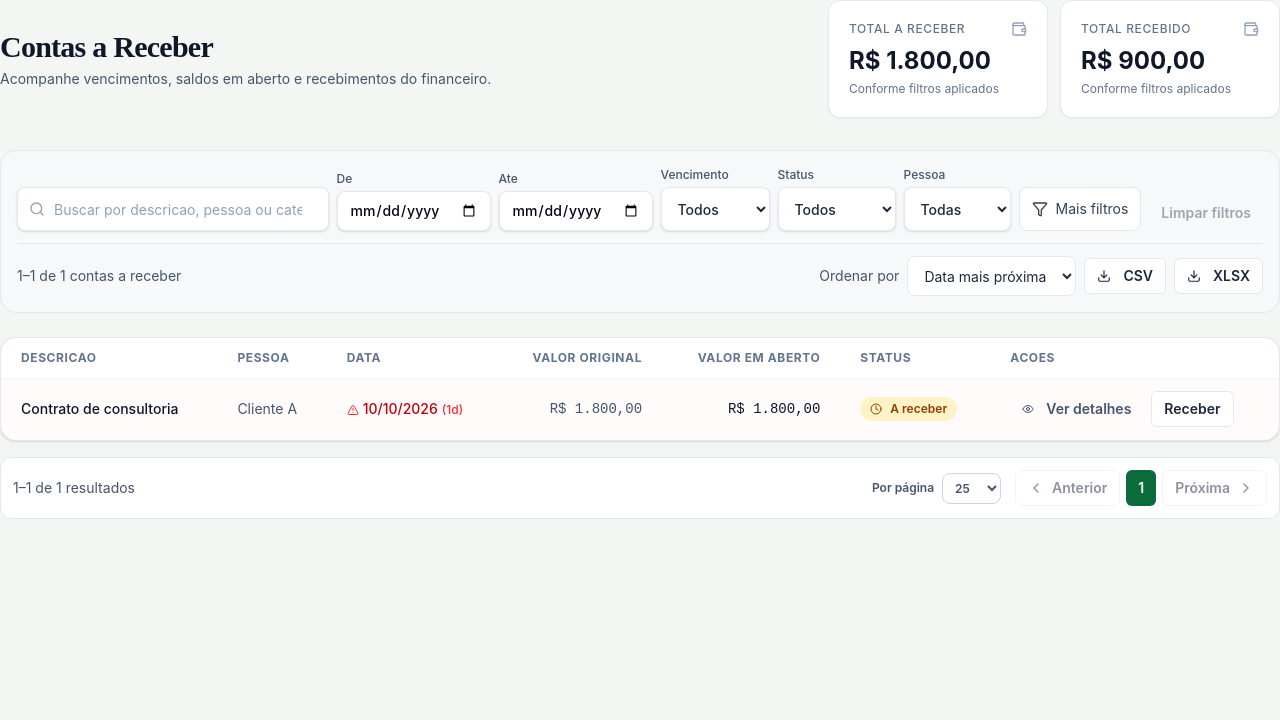
Test: ReceivablesPage › abre e fecha o detalhe pelo identificador da transacao
Click the button "Ver detalhes". click: (1077,409)
box: x1=1010 y1=391 x2=1143 y2=427
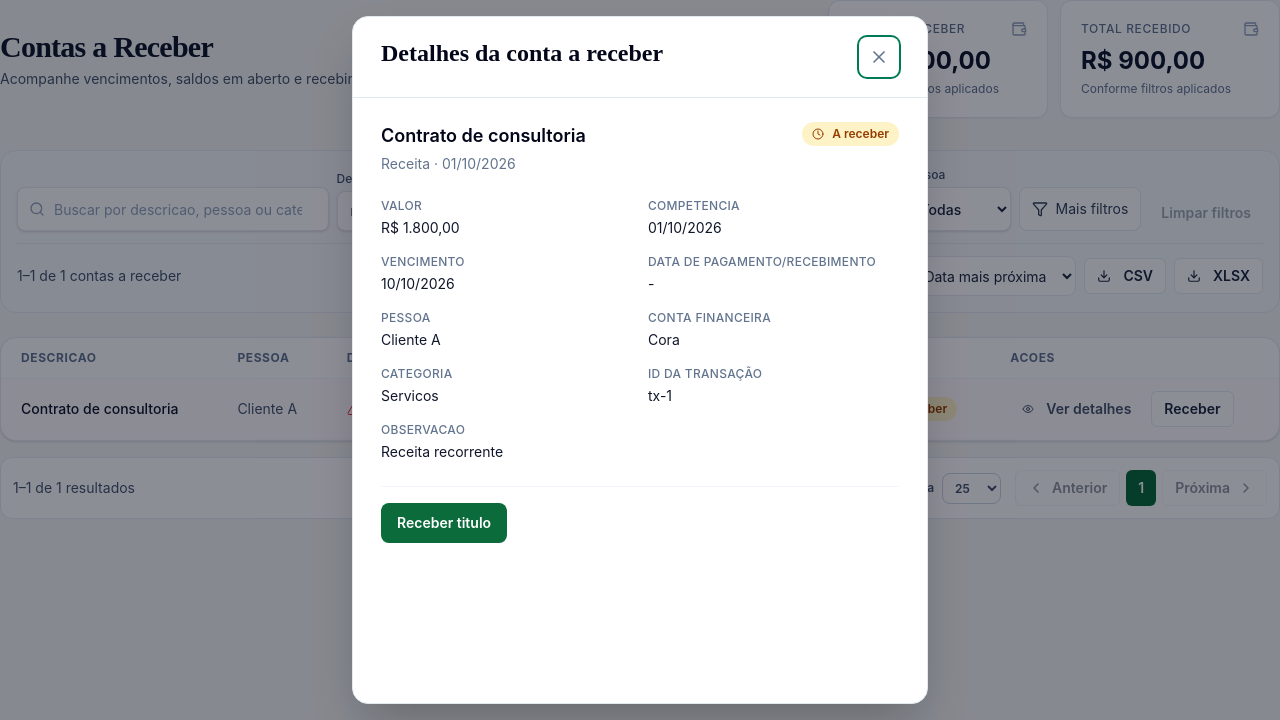
Now the heading "Detalhes da conta a receber" is shown, box x1=381 y1=40 x2=663 y2=66
Now the text "Receita recorrente" is shown, box x1=381 y1=443 x2=503 y2=460
Click the button named "Fechar painel". click: (879,57)
box: x1=859 y1=37 x2=899 y2=77
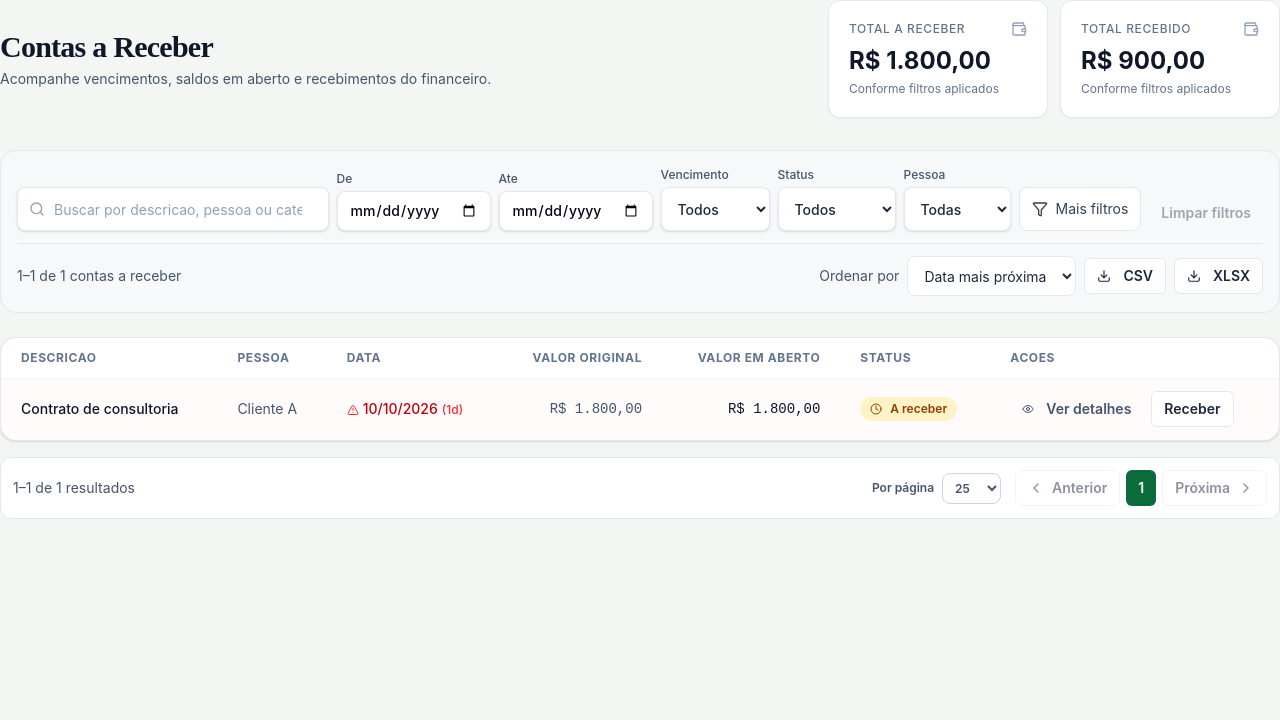
Now the heading "Detalhes da conta a receber" is gone
